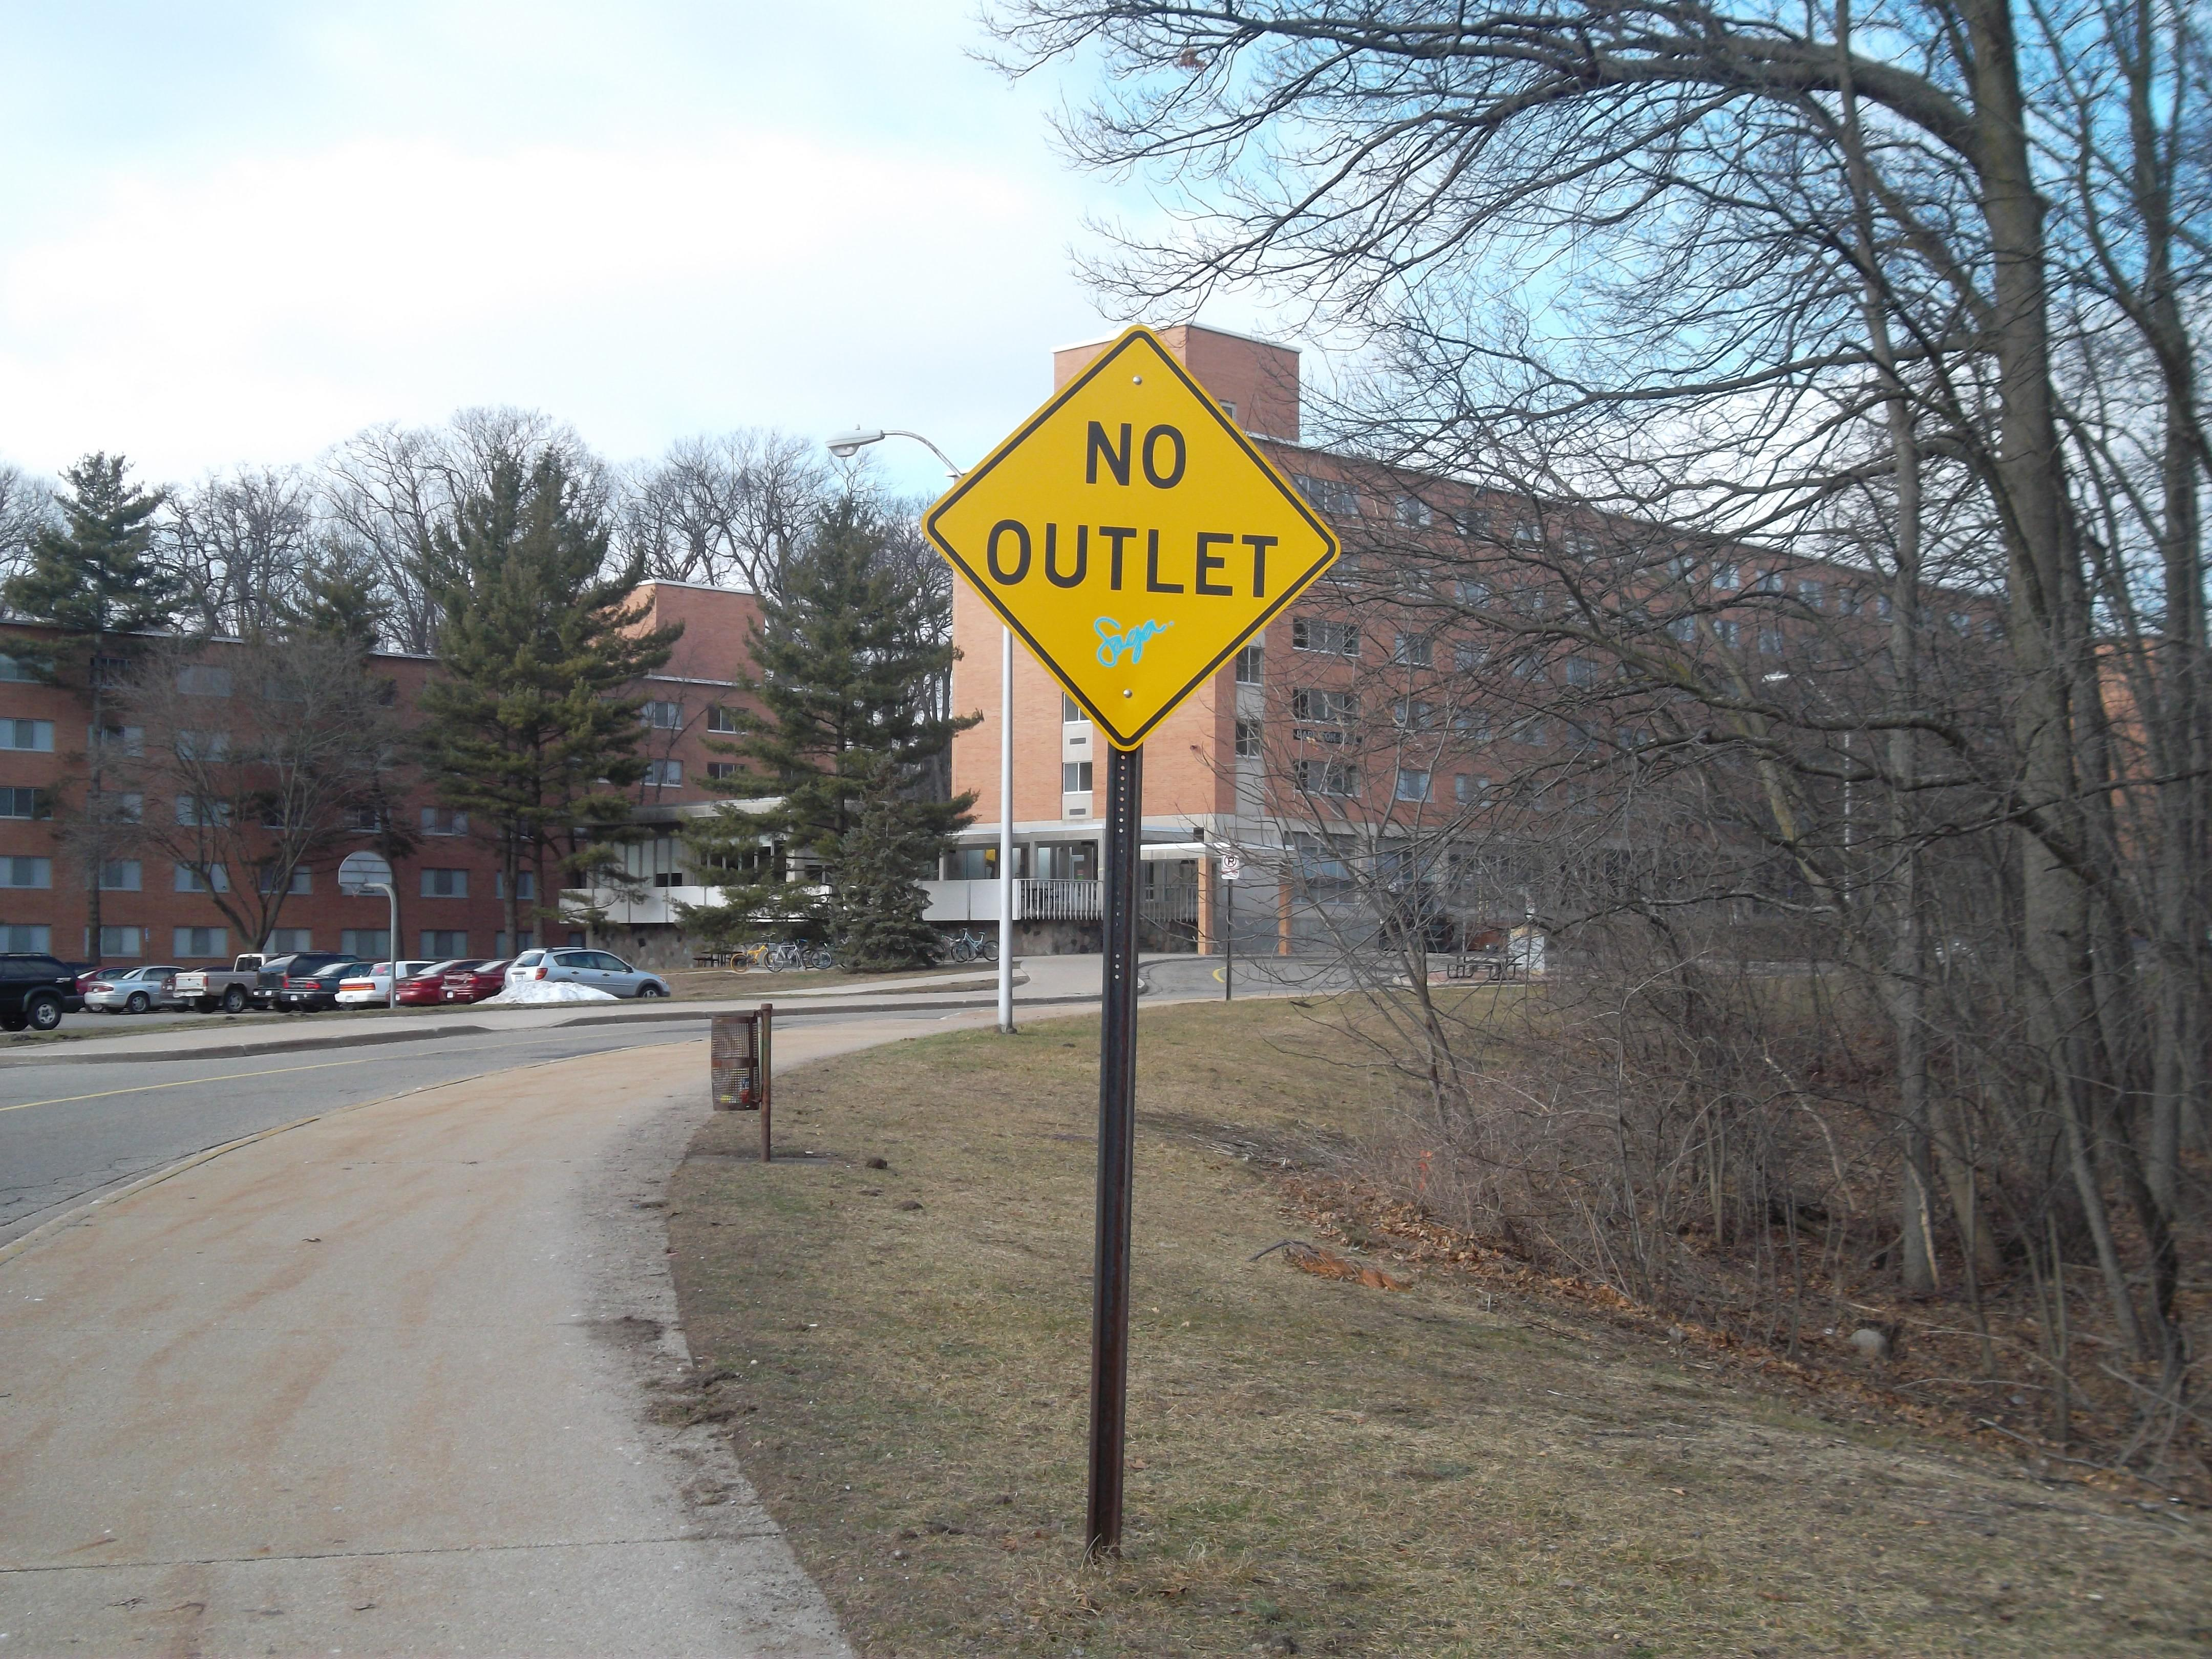warning: (923, 324, 1350, 749)
